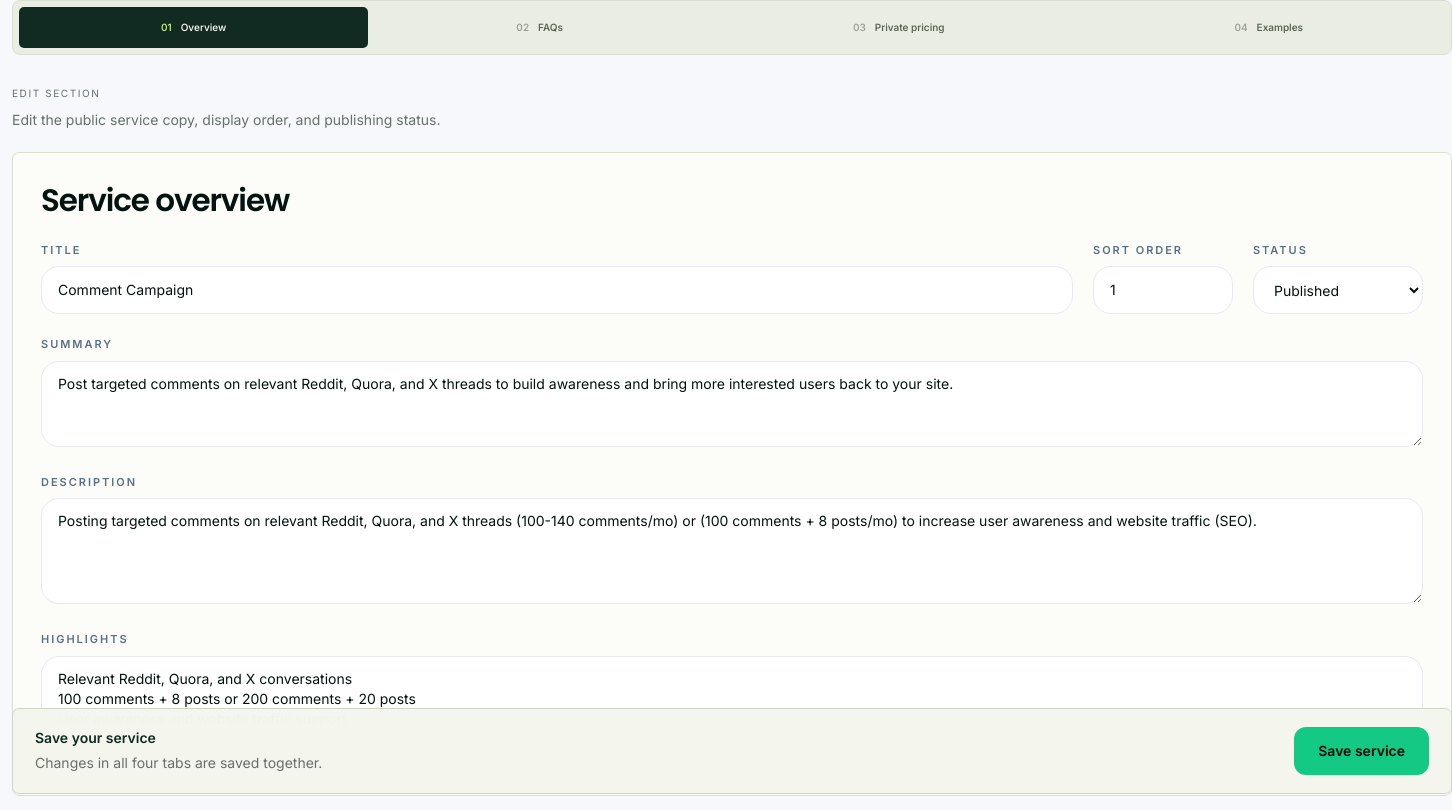
it: platform tabs retain draft names, follow reordering, and select a remaining platform after removal
Step 1. Click the tab "04 Examples" → click(1269, 28), box [1092,7,1445,48]
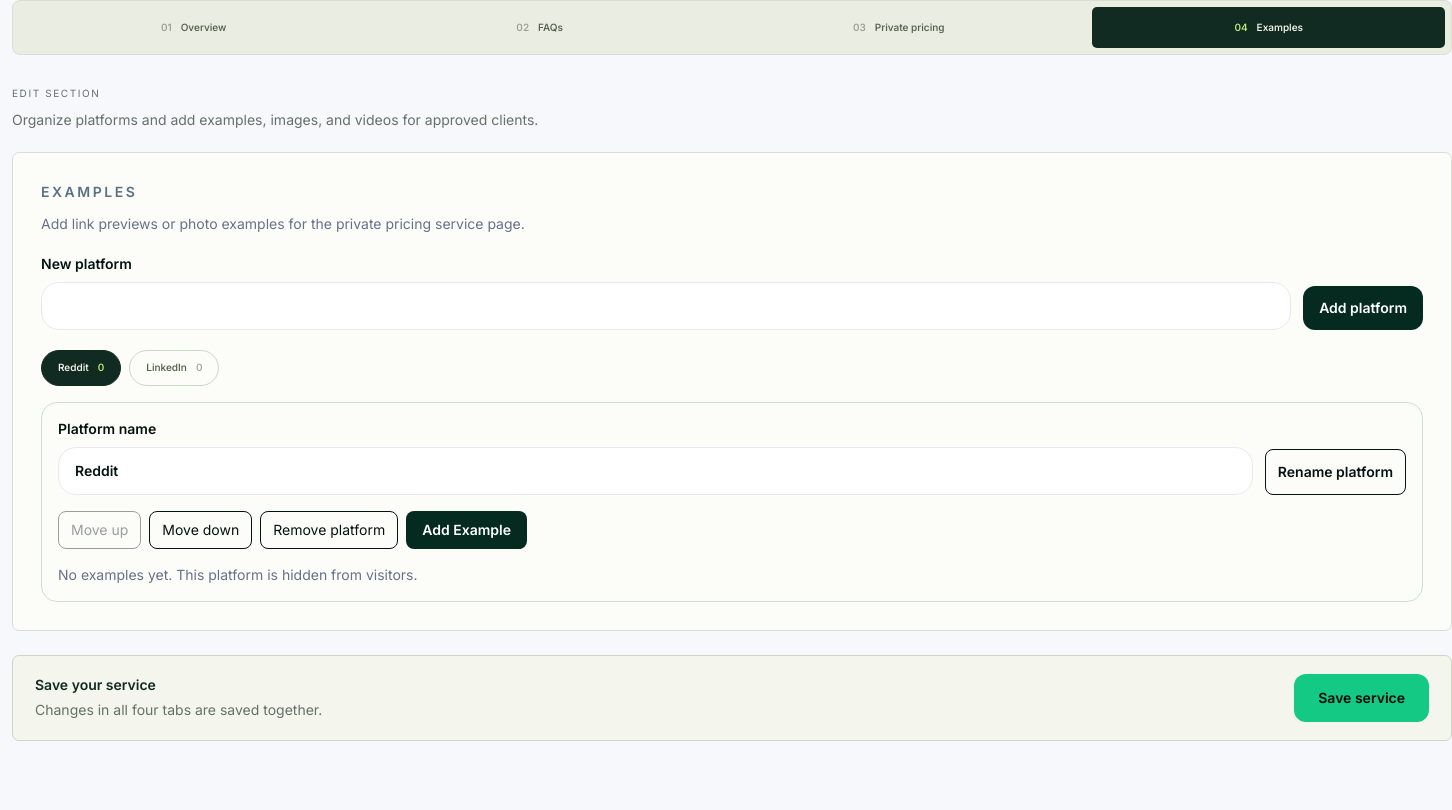
Step 2. Replace the text in the field labelled "Platform name" with "Reddit community" → (655, 471), box [58,447,1253,495]
Step 3. Press ArrowRight in the tab "Reddit 0", box [41,350,121,386]
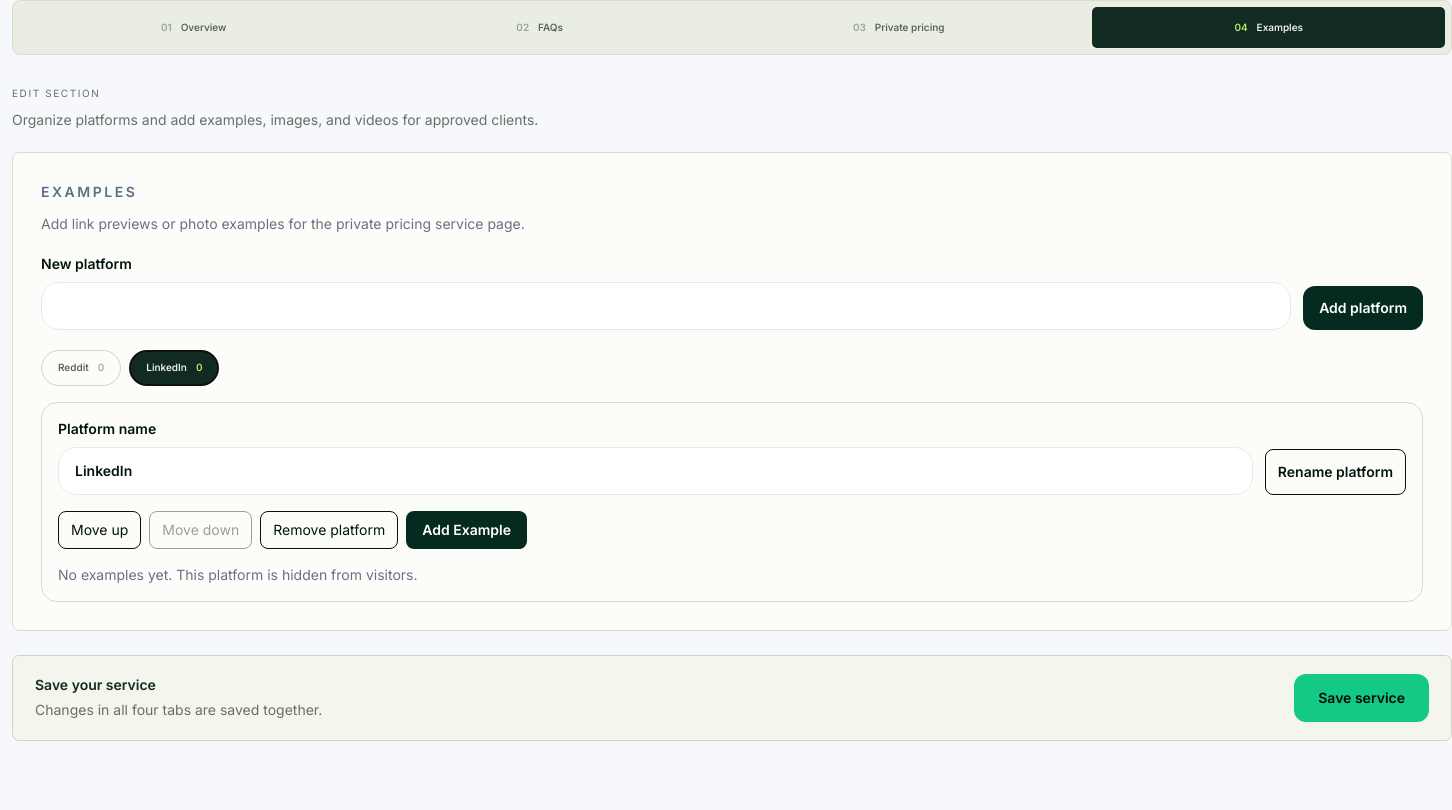
Expected: the element "Reddit examples" is not shown
Step 4. Click the tab "Reddit 0" → click(81, 368), box [41,350,121,386]
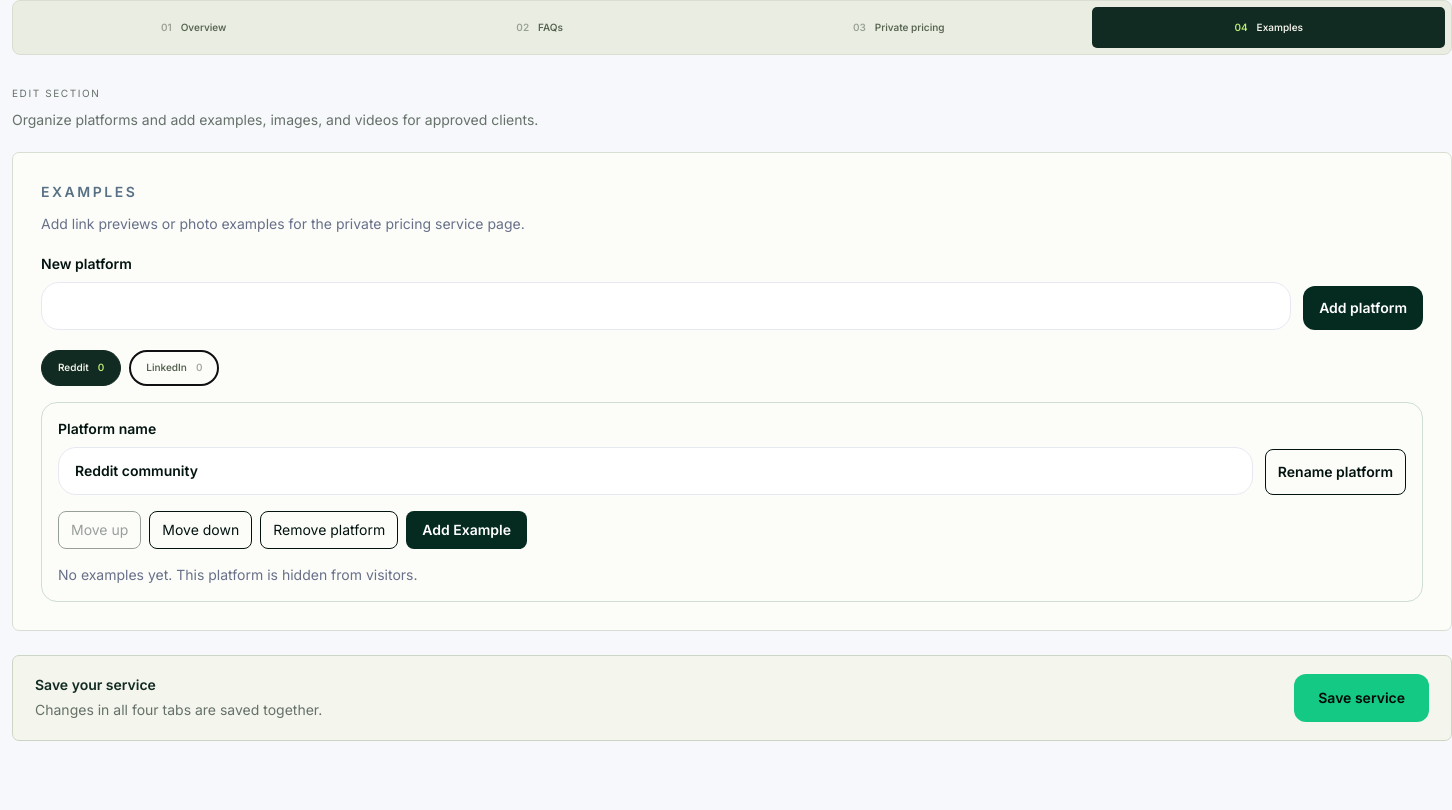
Step 5. Click the button "Rename platform" → click(1335, 472), box [1265,449,1406,495]
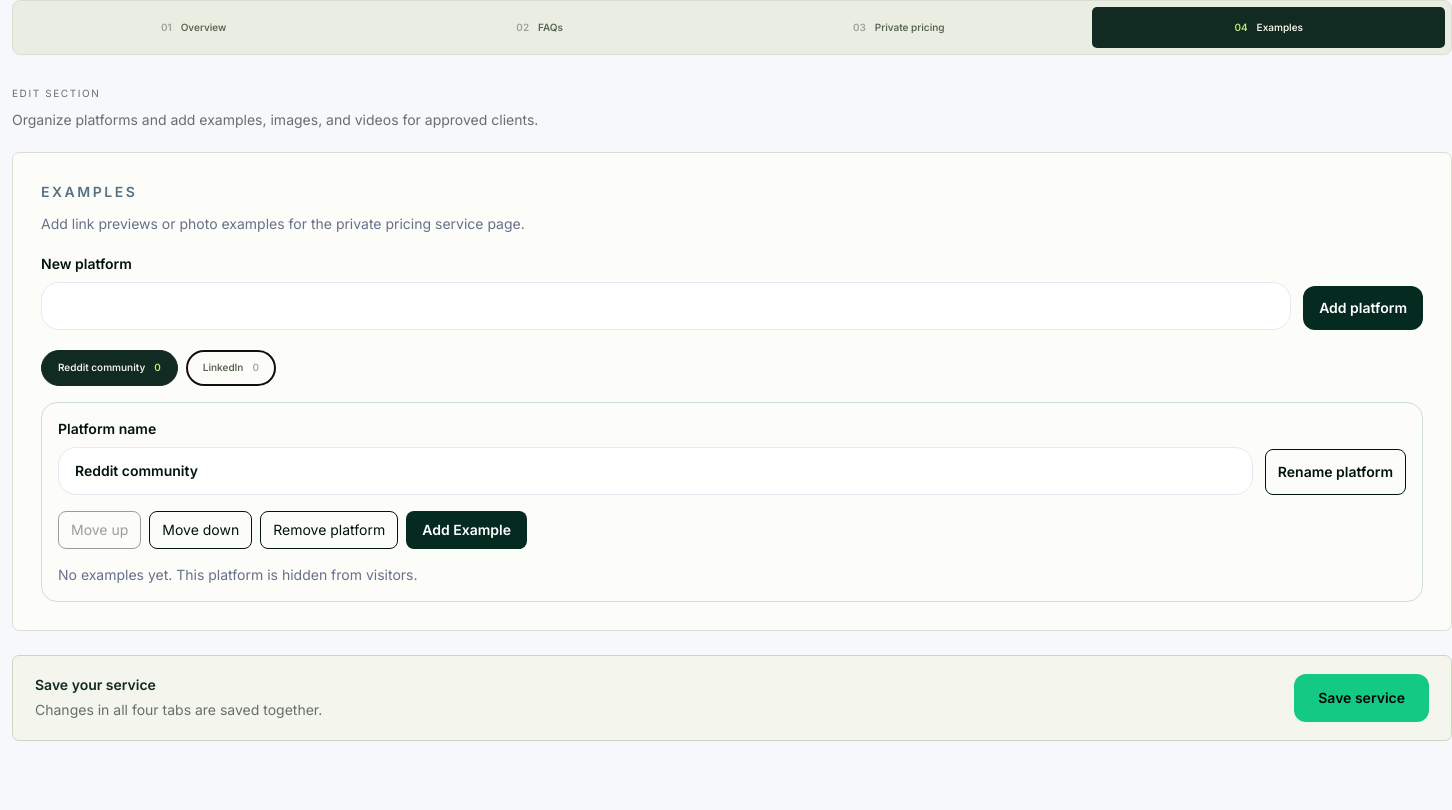
Expected: the tab "Reddit community 0" is selected, [41,350,178,386]
Step 6. Click the button "Move down" → click(201, 530), box [149,511,252,549]
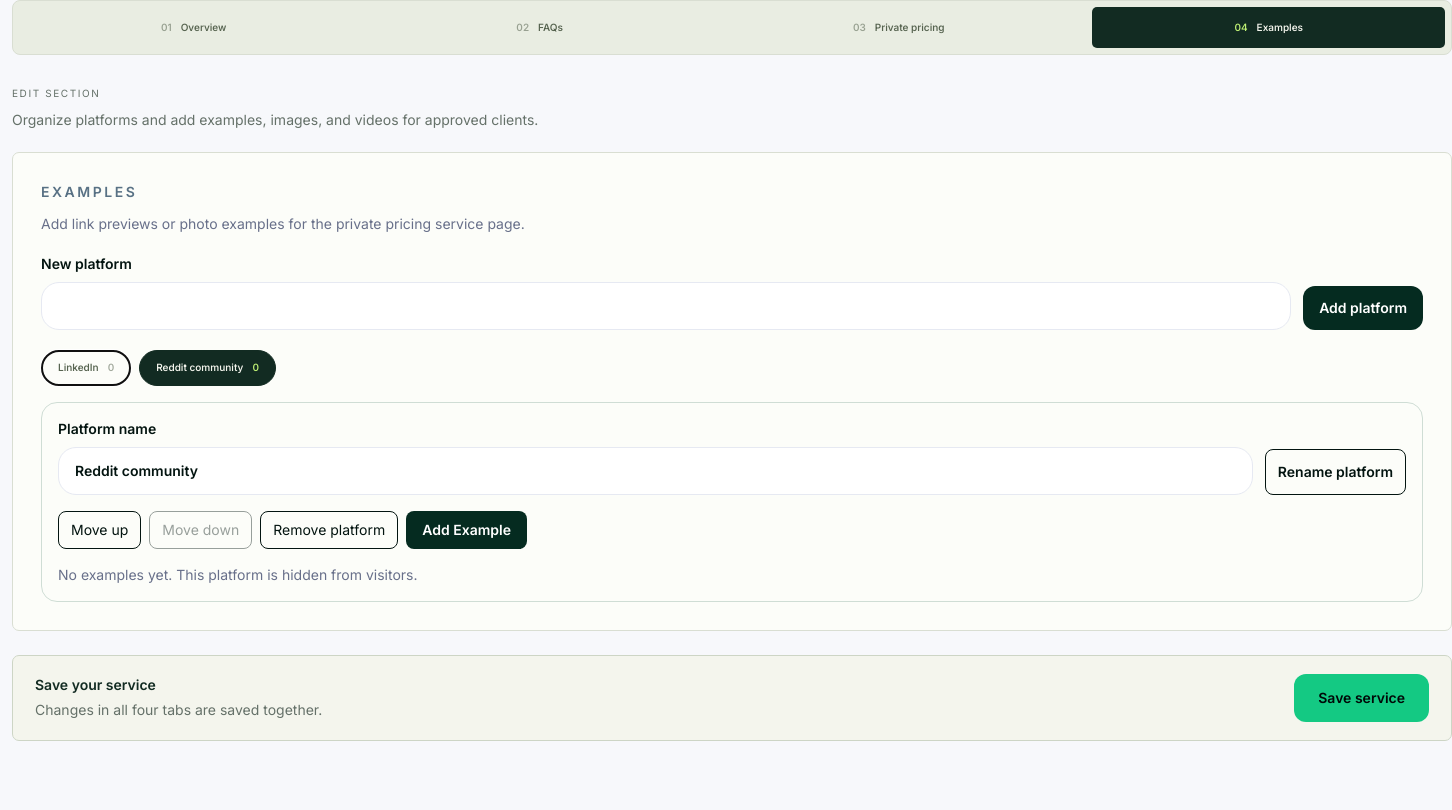
Expected: the tab "Reddit community 0" is selected, [139,350,276,386]
Step 7. Click the button "Remove platform" → click(329, 530), box [260,511,398,549]
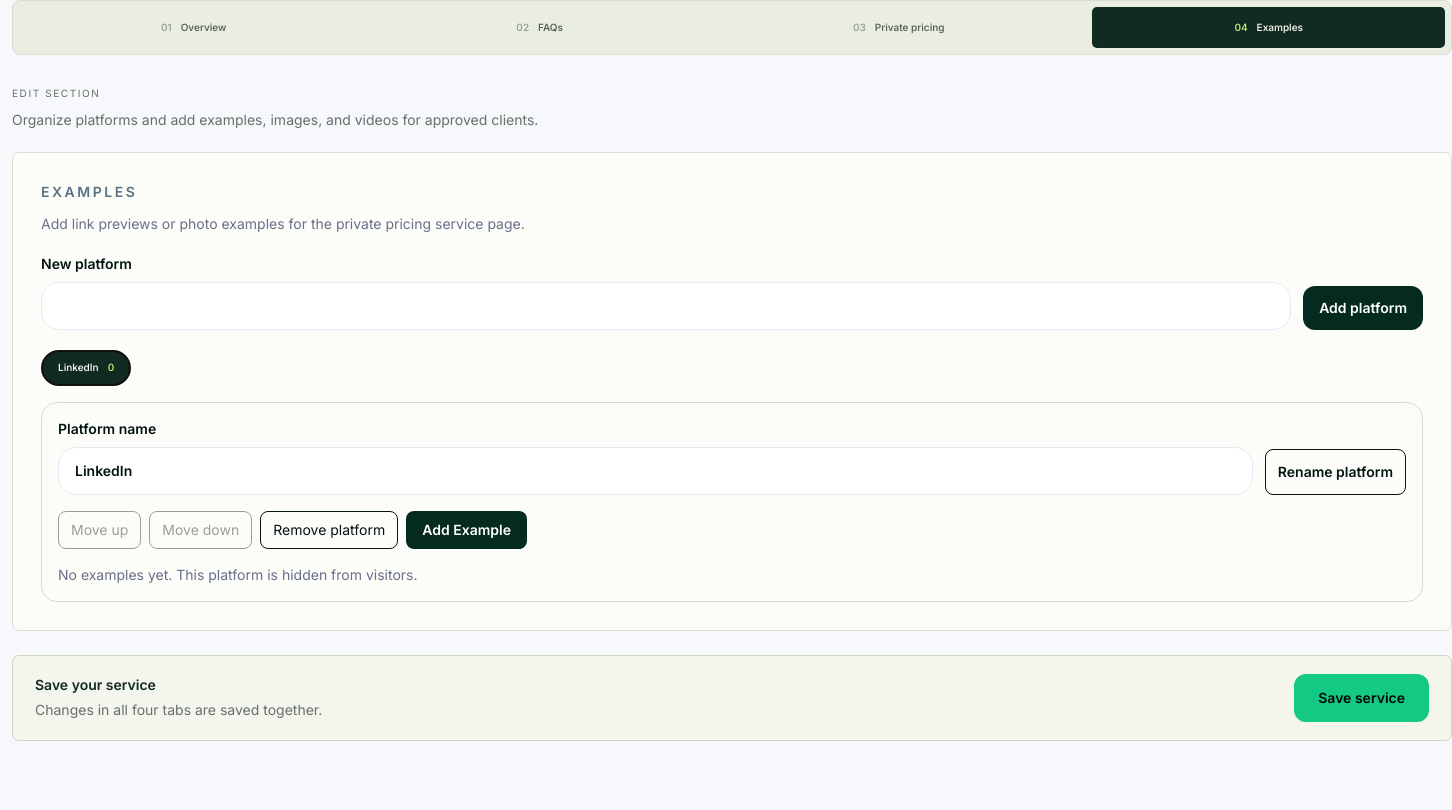
Expected: the element named "LinkedIn examples" is shown, [41,402,1423,602]
